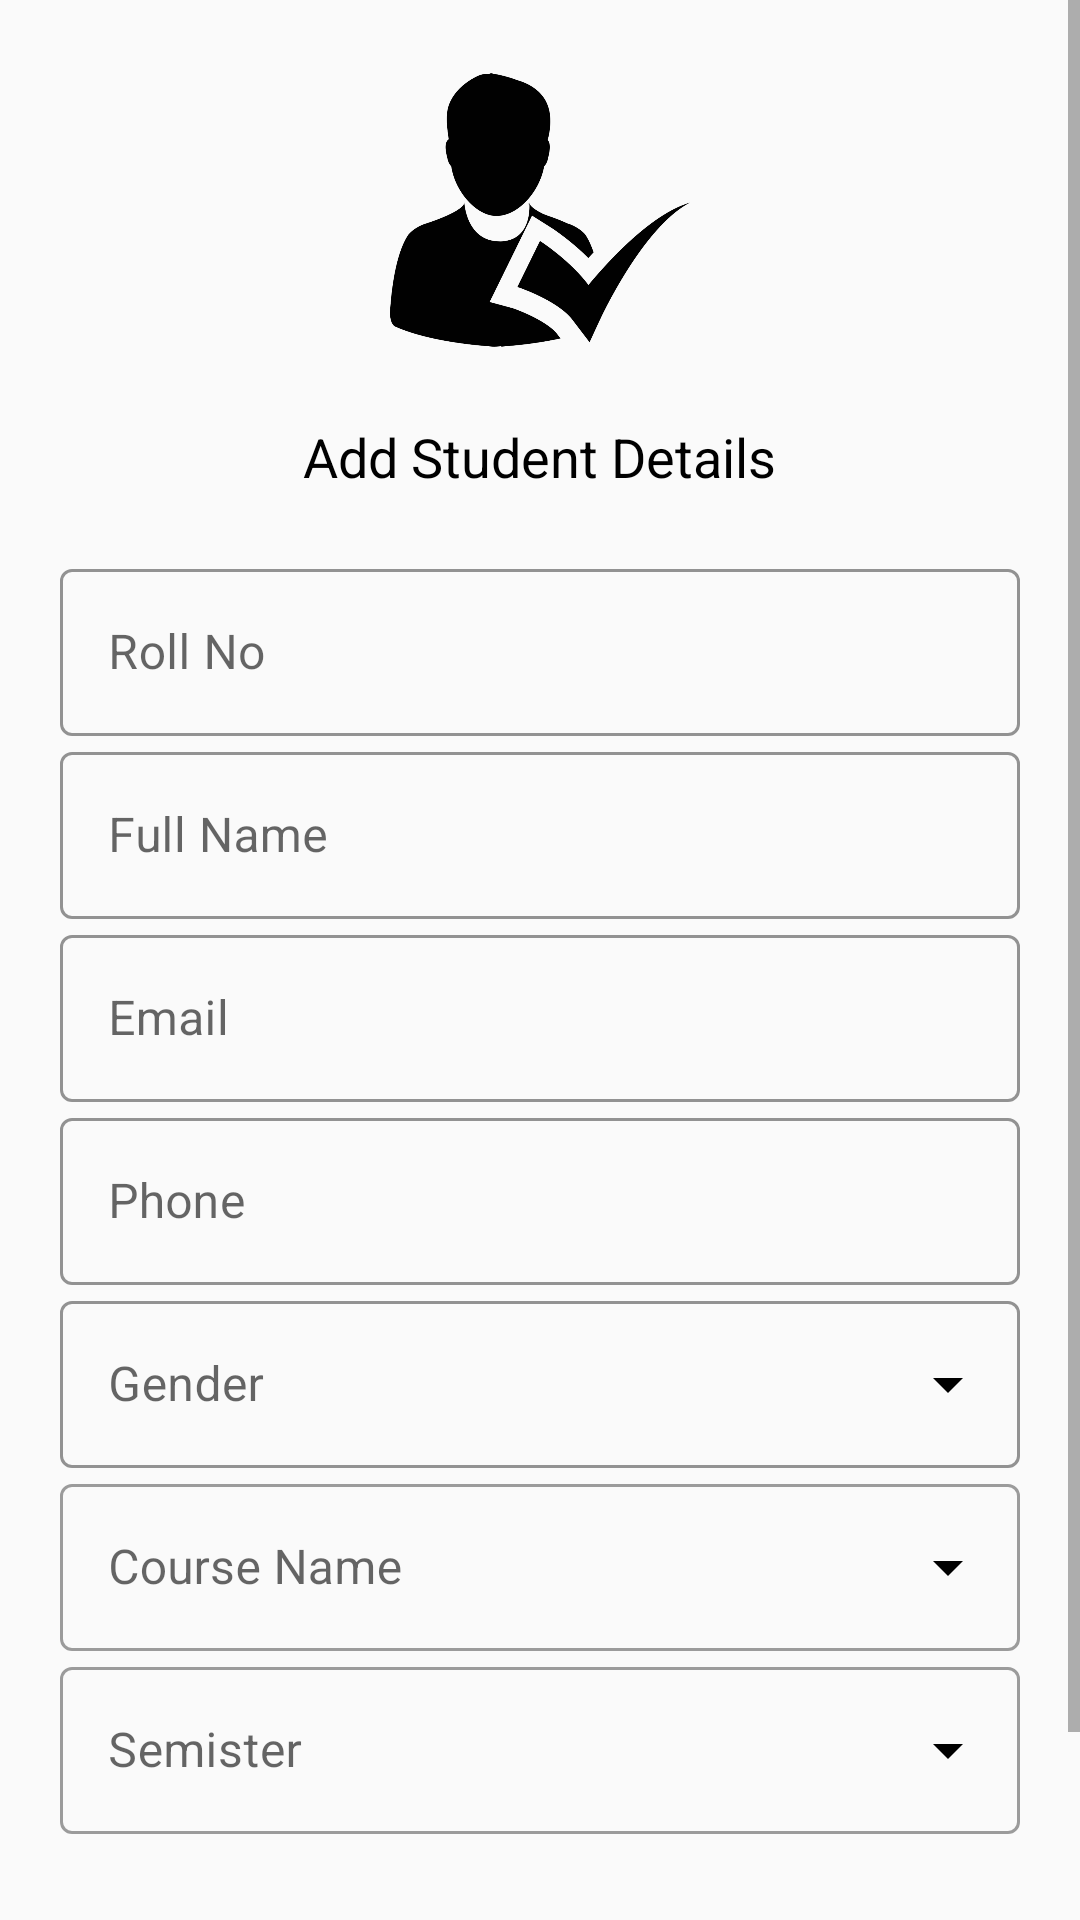

Where to tap for icons on this 1080w x 1920h app screen, as (x,y):
attendance: (539,210)
